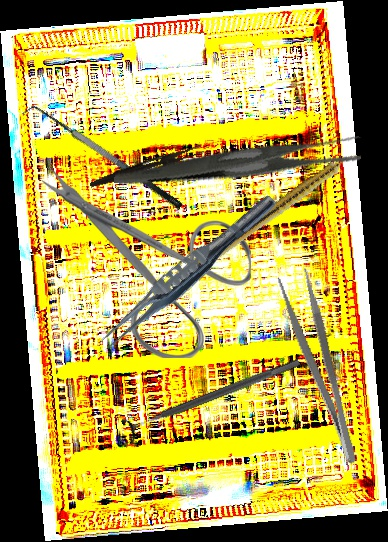Dressing Forceps: (113, 92, 365, 228), (275, 266, 362, 471), (88, 140, 205, 194)
Fixation Ring: (120, 349, 305, 446)
Handpiece: (194, 145, 362, 275)
Iris Scissors: (42, 170, 251, 358)
Spatula Surgical: (21, 95, 184, 223)
Tissue Forceps: (92, 186, 282, 360)
